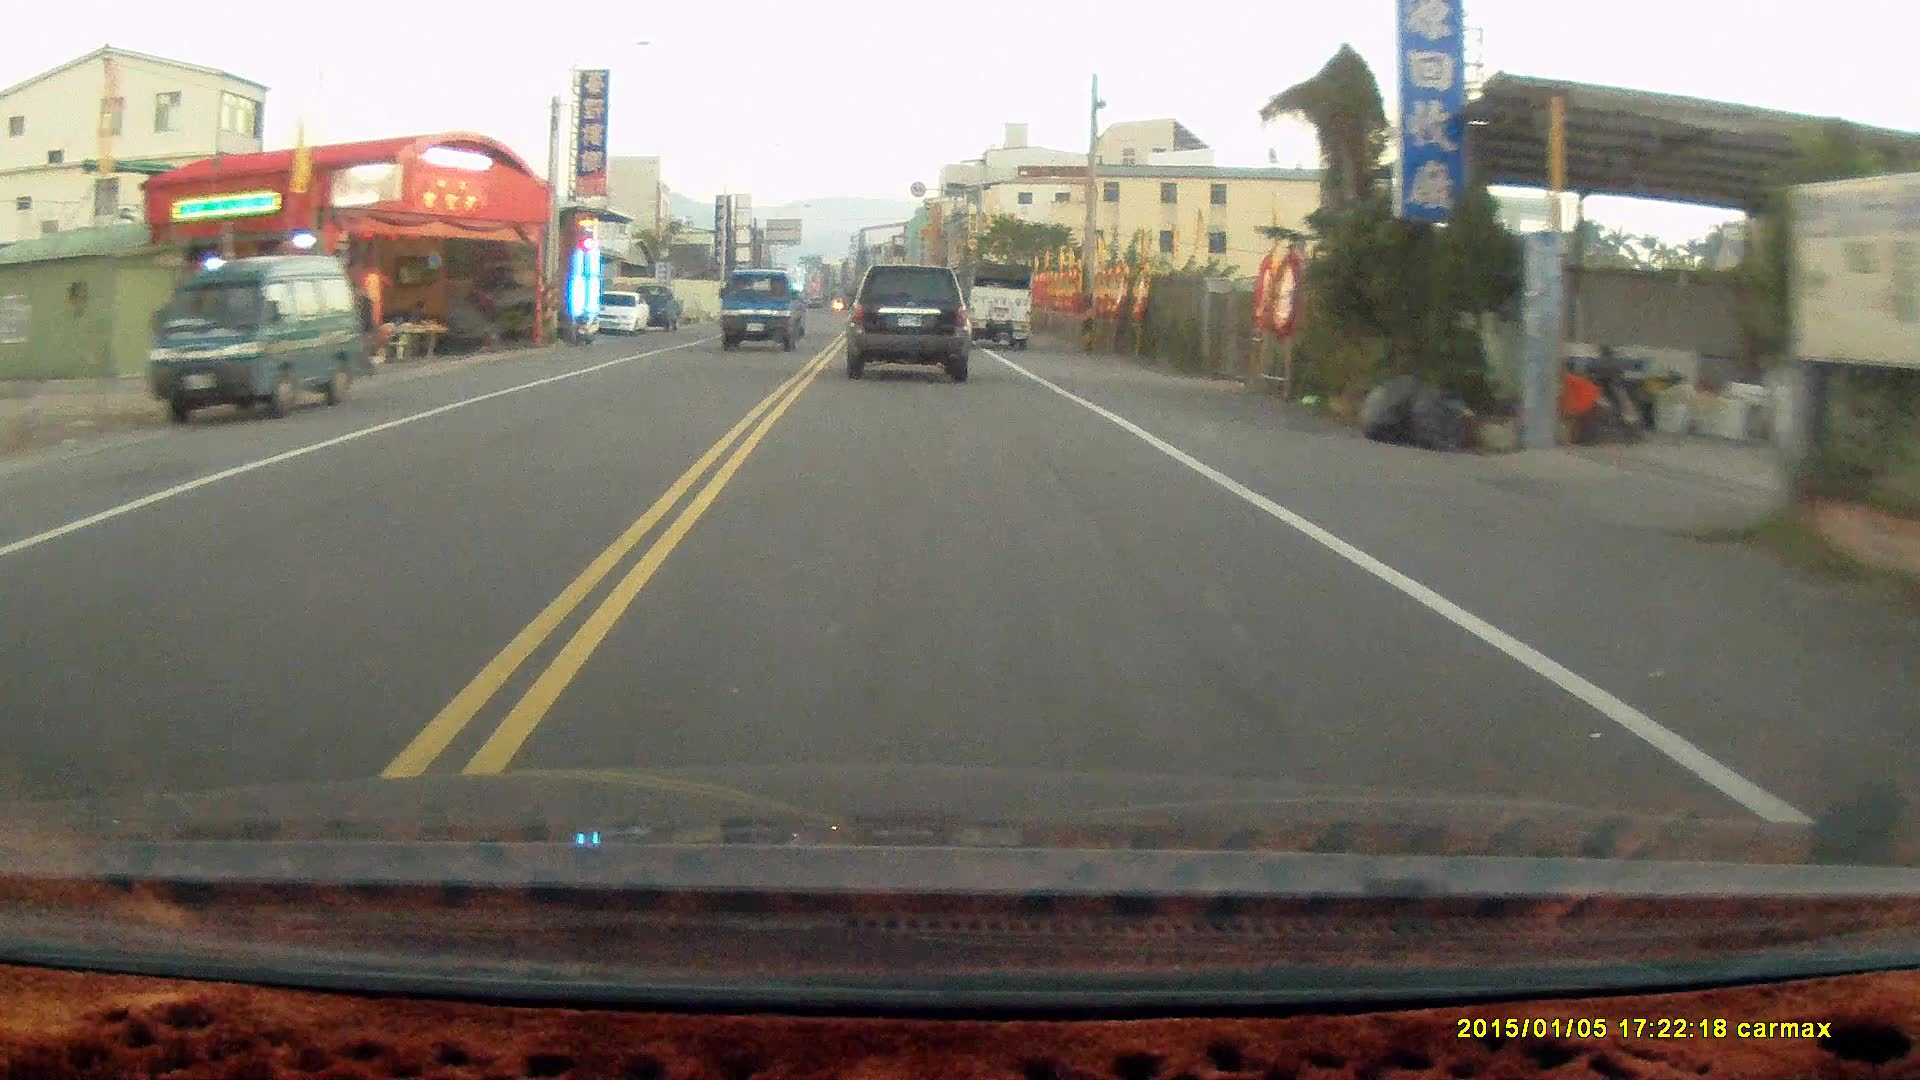vehicle: (154, 256, 359, 433), (848, 266, 972, 382), (940, 261, 1035, 351), (721, 272, 808, 357), (591, 291, 650, 335)
